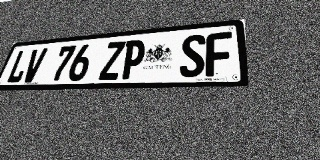6: (66, 44, 94, 81)
7: (49, 45, 76, 82)
F: (205, 31, 233, 77)
L: (5, 49, 33, 83)
P: (119, 39, 146, 80)
S: (179, 34, 206, 78)
V: (20, 48, 48, 83)
Z: (98, 41, 126, 80)
